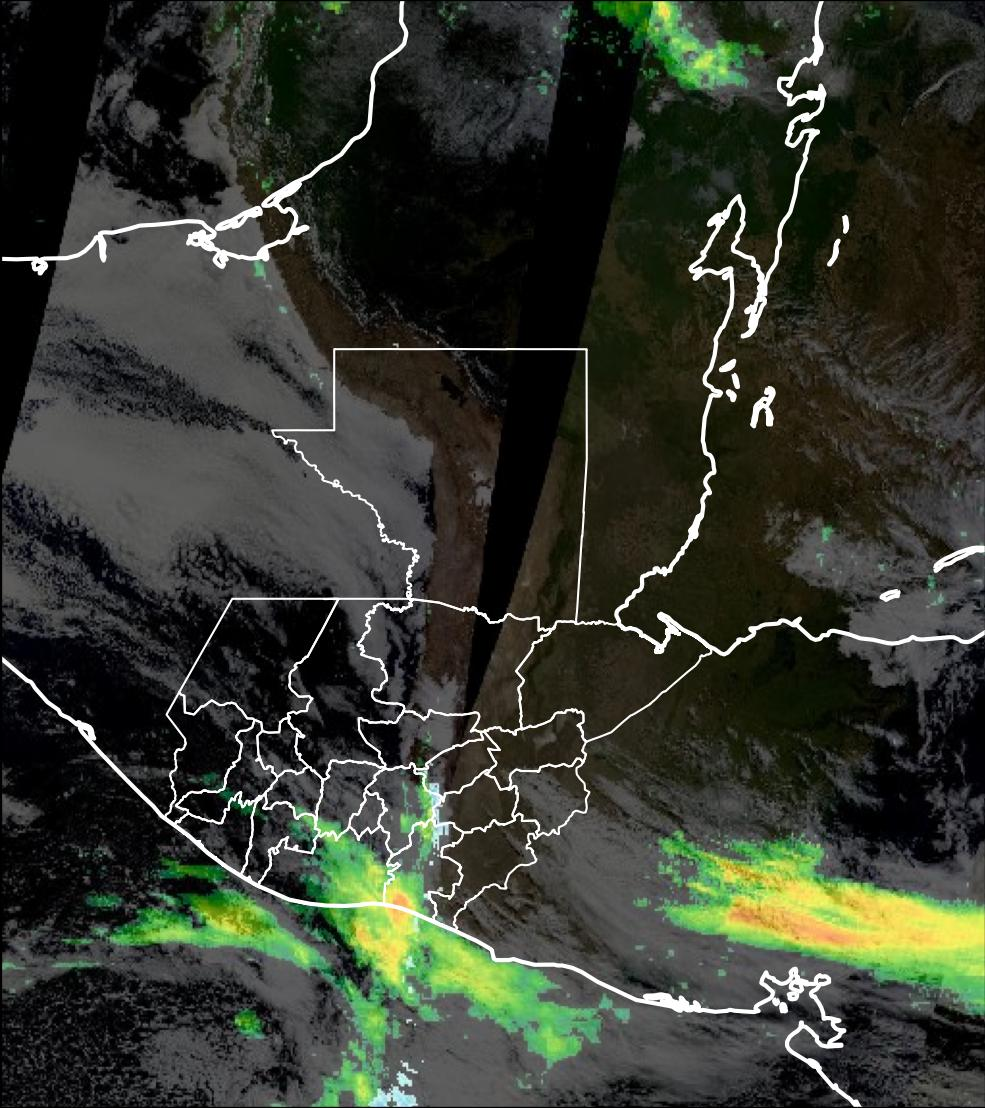precipitacion: (726, 842, 985, 972)
